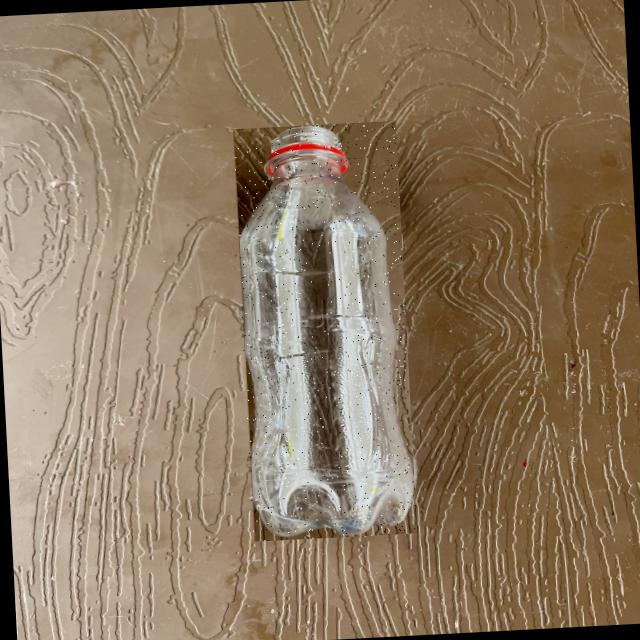PET_With_Cap: (230, 121, 416, 542)
